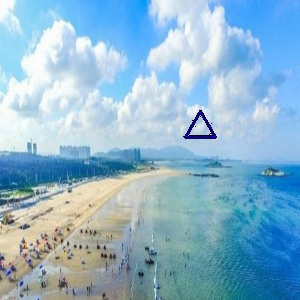triangle: (181, 107, 219, 142)
